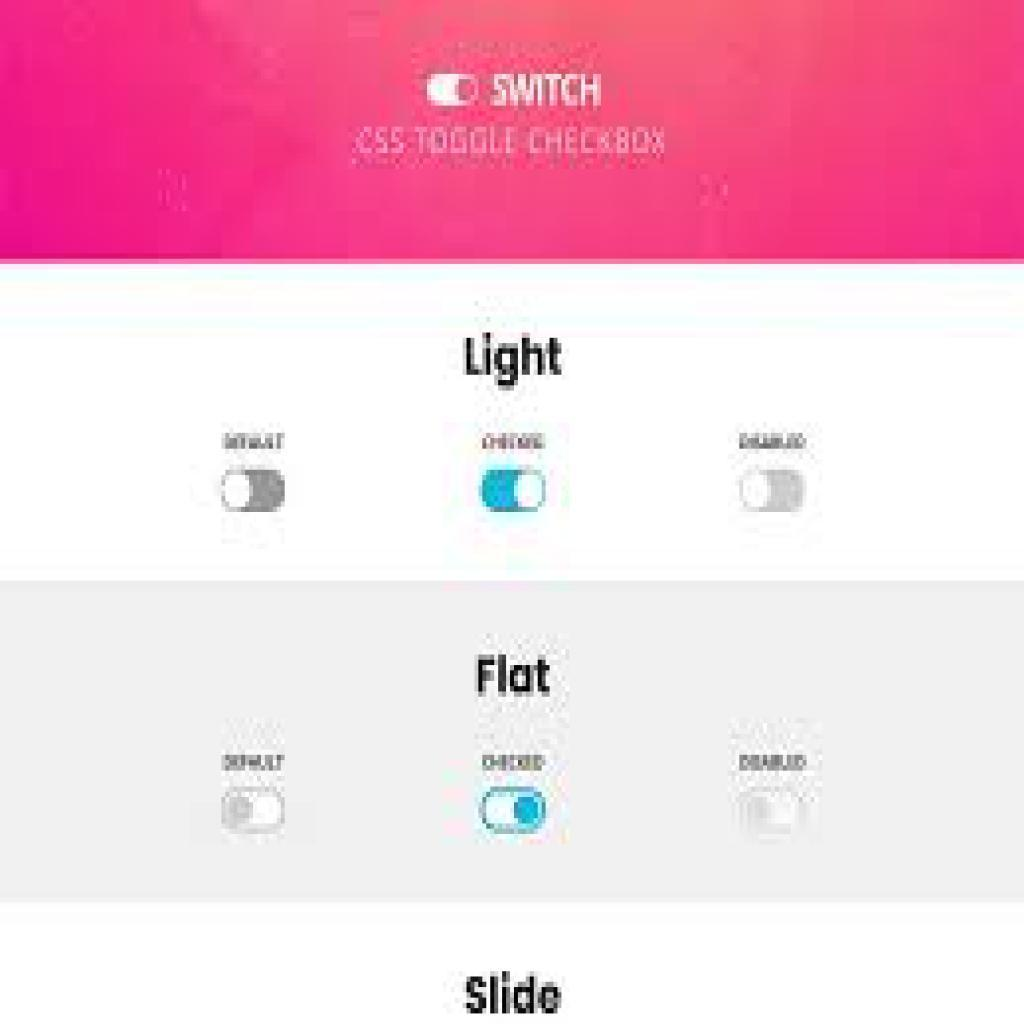switch: (737, 790, 813, 843), (482, 786, 549, 836), (221, 787, 289, 835), (223, 469, 289, 517), (480, 469, 549, 513), (742, 472, 809, 516)
